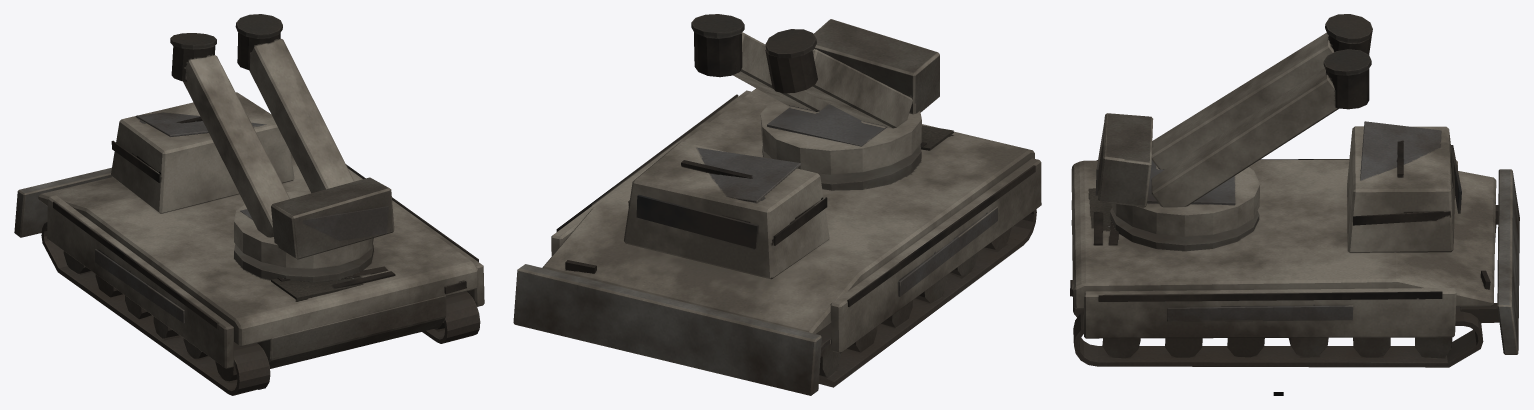
File: ord_architect_wreck.fbx
The picture shows the model from 3 angles, left to right: view 1: azimuth 30°, elevation 25°; view 2: azimuth 150°, elevation 25°; view 3: azimuth 270°, elevation 25°; orthographic projection. The views are drawn at different scales.
Parts seen in each view (by area): view 1: base_bar, nano_bar, trackL_bar, trackR_bar; view 2: base_bar, nano_bar, trackL_bar; view 3: base_bar, nano_bar, trackR_bar.
Boxes of the visible parts, x1=… form: base_bar: x1=14, y1=92, x2=484, y2=368; nano_bar: x1=170, y1=14, x2=394, y2=268; trackL_bar: x1=41, y1=222, x2=270, y2=395; trackR_bar: x1=422, y1=291, x2=480, y2=343; base_bar: x1=513, y1=88, x2=1041, y2=395; nano_bar: x1=691, y1=14, x2=939, y2=174; trackL_bar: x1=816, y1=209, x2=1036, y2=387; base_bar: x1=1070, y1=121, x2=1519, y2=354; nano_bar: x1=1095, y1=14, x2=1372, y2=236; trackR_bar: x1=1073, y1=307, x2=1483, y2=367.
Size of the model in its own units: 660 by 795 by 915.
2 materials, 2 textured.
